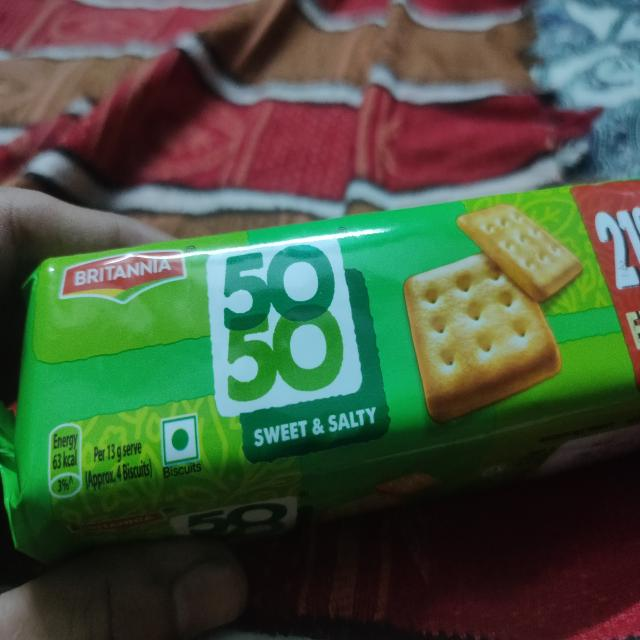biscuit: (0, 168, 640, 565)
